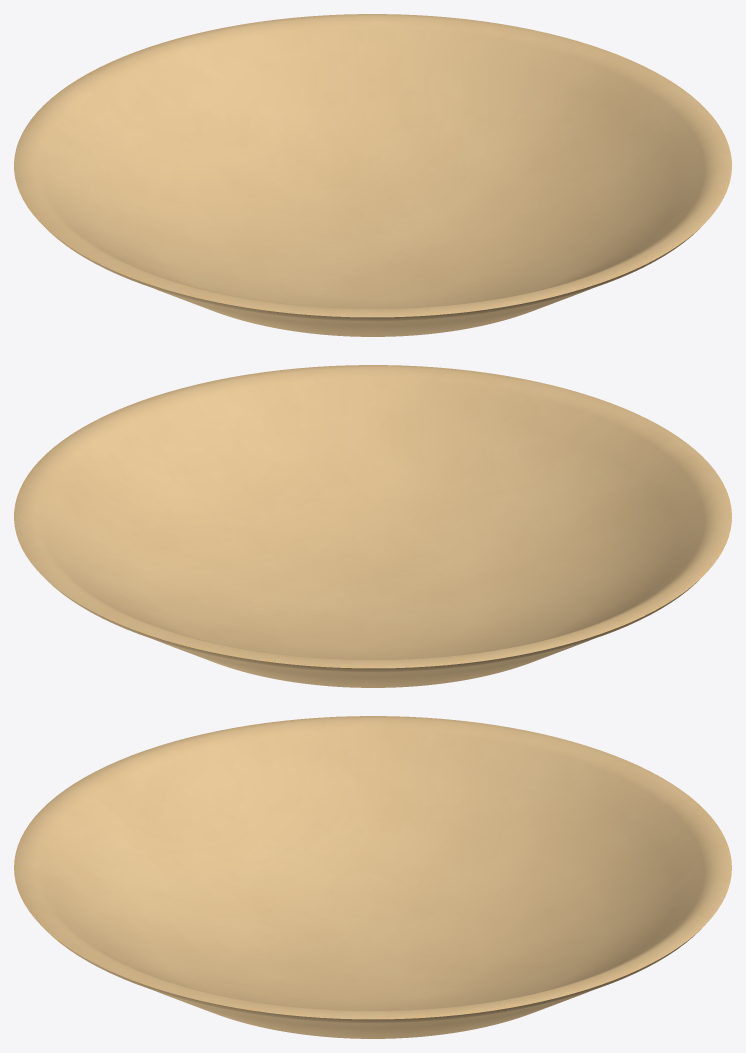
The model's file is urli.glb.
3 views of the same model, one above another, from view 1: azimuth 30°, elevation 25°; view 2: azimuth 150°, elevation 25°; view 3: azimuth 270°, elevation 25° (orthographic).
Visible parts, largest first — view 1: urli; view 2: urli; view 3: urli.
Part boxes in pixels (box(x1,y1,x2,y2)): urli: box(14, 14, 731, 336); urli: box(14, 365, 731, 687); urli: box(14, 716, 731, 1038).
Bounding box in the file's own units: 0.78 × 0.137 × 0.78.
Materials: 1 (1 with a texture image).
